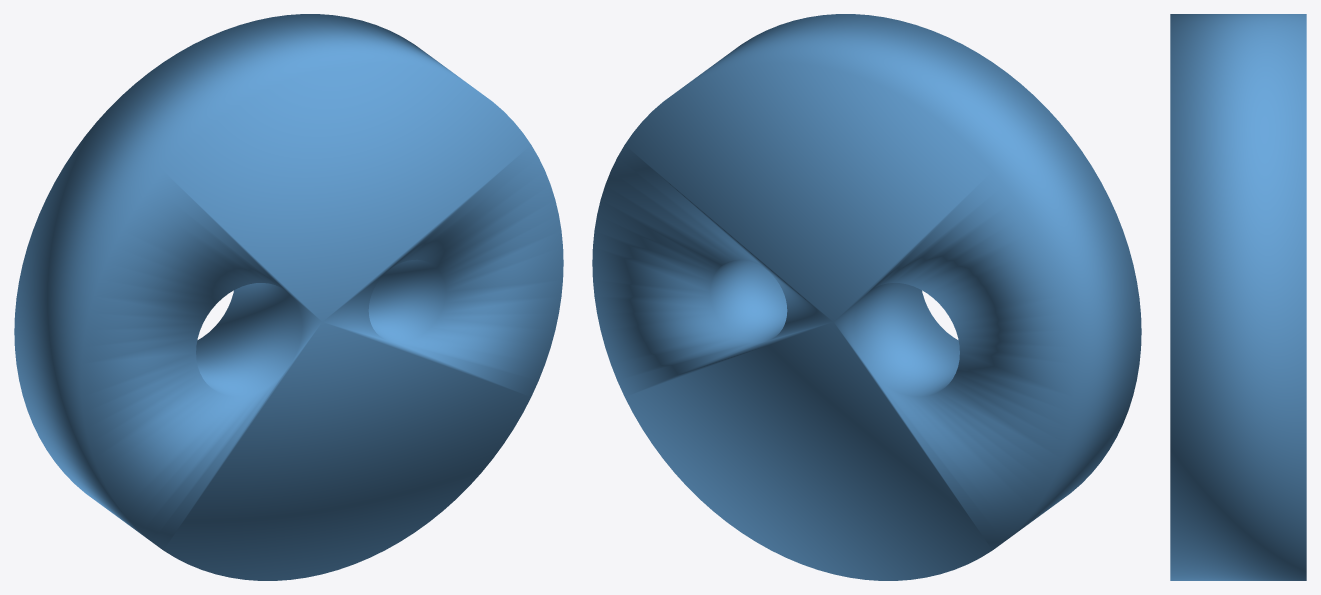
File: bs2319-3-optical-forceps-cap-proxy-b42465dc8ca8.glb
3 renders of one model, left to right at view 1: azimuth 30°, elevation 25°; view 2: azimuth 150°, elevation 25°; view 3: azimuth 270°, elevation 25°, orthographic.
Visible parts, largest first — view 1: BS2319-3_Cap_Body; view 2: BS2319-3_Cap_Body; view 3: BS2319-3_Cap_Body.
Part boxes in pixels (x1,y1,x2,y2): BS2319-3_Cap_Body: (14,14,563,580); BS2319-3_Cap_Body: (592,14,1141,580); BS2319-3_Cap_Body: (1170,14,1306,580).
Size of the model in its own units: 0.025 by 0.025 by 0.006.
